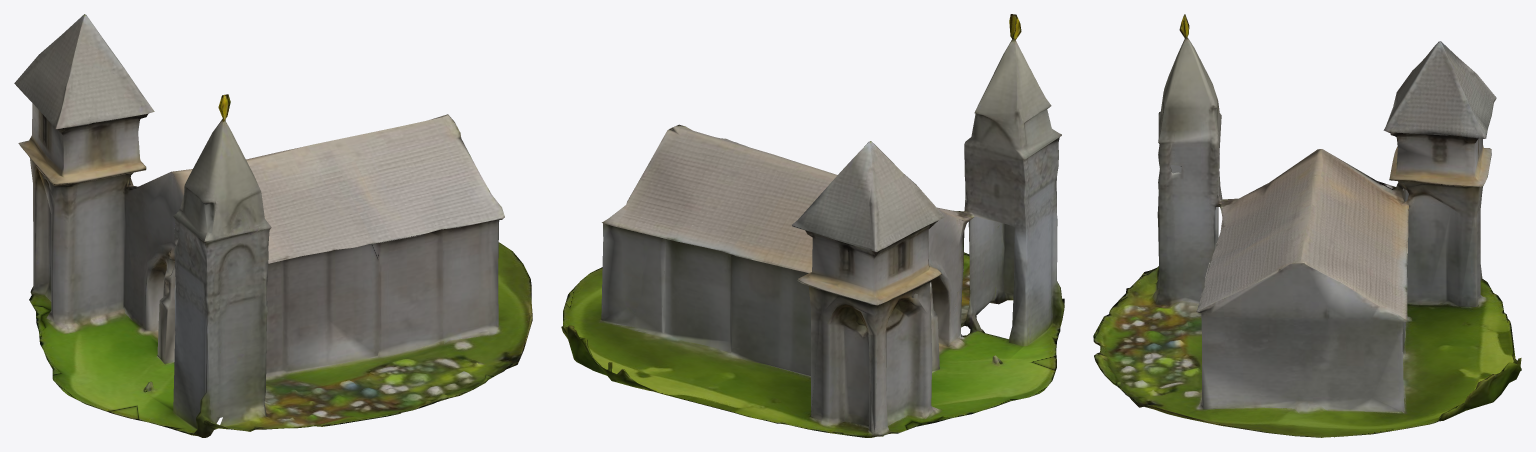
Rendered from church.glb.
3 renders of one model, left to right at view 1: azimuth 30°, elevation 25°; view 2: azimuth 150°, elevation 25°; view 3: azimuth 270°, elevation 25°, orthographic. The views are drawn at different scales.
Parts seen in each view (by area): view 1: church; view 2: church; view 3: church.
Part boxes in pixels (left/top/right/bottom): church: left=14, top=14, right=532, bottom=437; church: left=561, top=14, right=1064, bottom=437; church: left=1093, top=14, right=1521, bottom=437.
Bounding box in the file's own units: 0.9985 × 0.6784 × 0.9167.
Materials: 1 (1 with a texture image).
